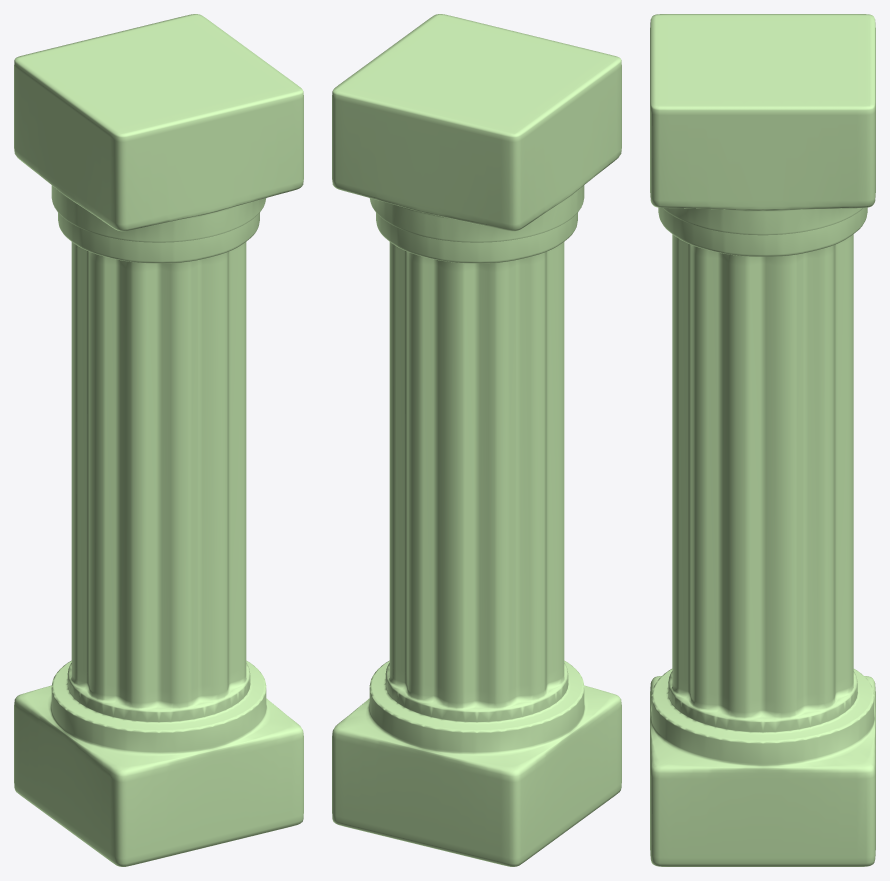
File: columns.fbx
3 views of the same model, side by side, from view 1: azimuth 30°, elevation 25°; view 2: azimuth 150°, elevation 25°; view 3: azimuth 270°, elevation 25° (orthographic). The views are drawn at different scales.
Parts seen in each view (by area): view 1: Column; view 2: Column; view 3: Column.
Boxes of the visible parts, <box> form: Column: <box>14,14,303,866</box>; Column: <box>332,14,621,866</box>; Column: <box>650,14,875,866</box>.
Size of the model in its own units: 1.33 by 4.97 by 1.33.
